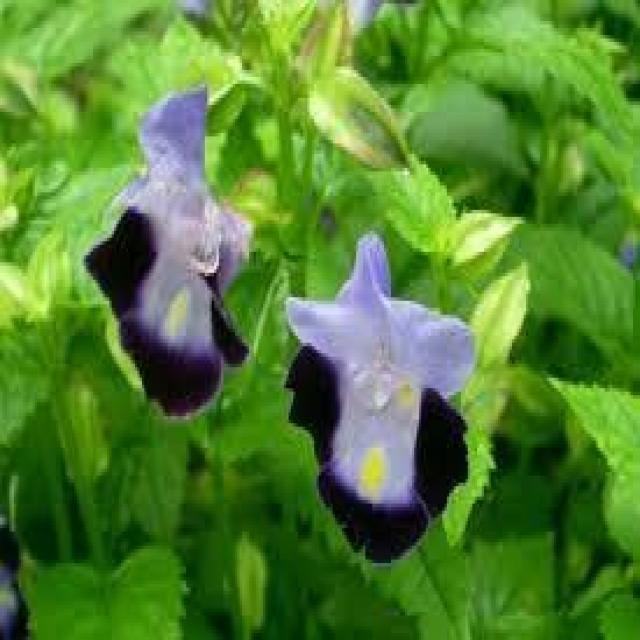organic waste: (284, 238, 472, 552), (88, 80, 266, 406)
